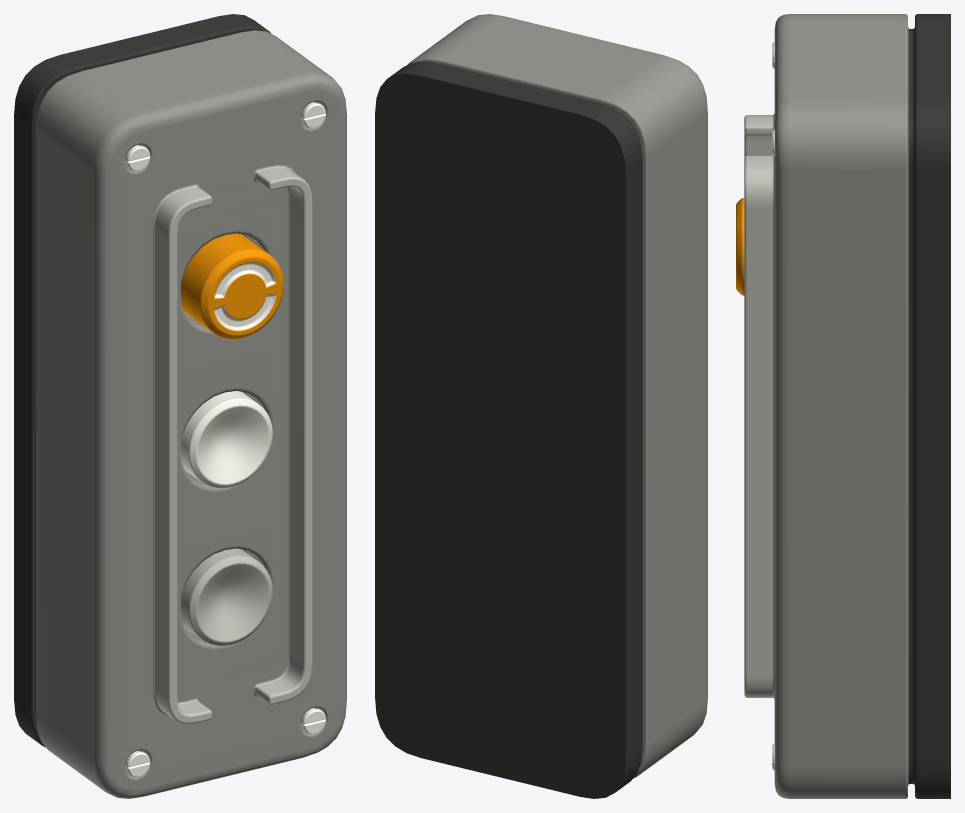
The model's file is Tri Button #1.fbx.
3 views of the same model, side by side, from view 1: azimuth 30°, elevation 25°; view 2: azimuth 150°, elevation 25°; view 3: azimuth 270°, elevation 25° (orthographic).
Parts seen in each view (by area): view 1: kitbash_77; view 2: kitbash_77; view 3: kitbash_77.
Part boxes in pixels (left/top/right/bottom): kitbash_77: left=14, top=14, right=346, bottom=798; kitbash_77: left=375, top=14, right=707, bottom=798; kitbash_77: left=736, top=14, right=950, bottom=798.
Size of the model in its own units: 10 by 26 by 7.32.
